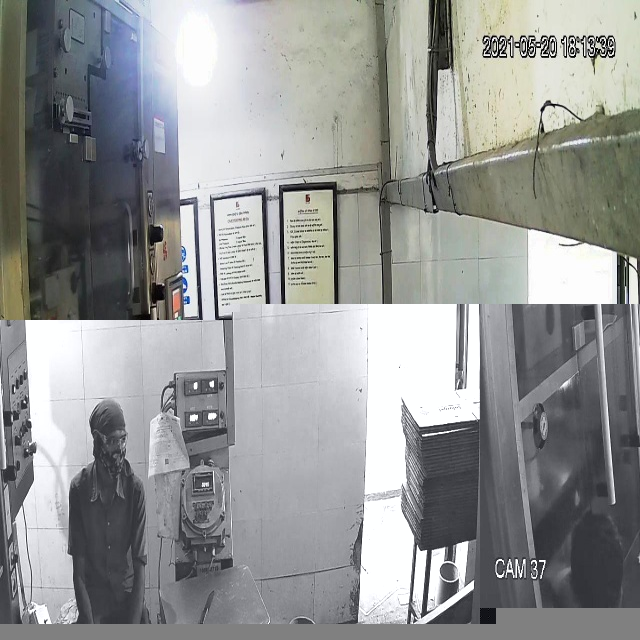Gafas: (248, 440, 295, 470)
